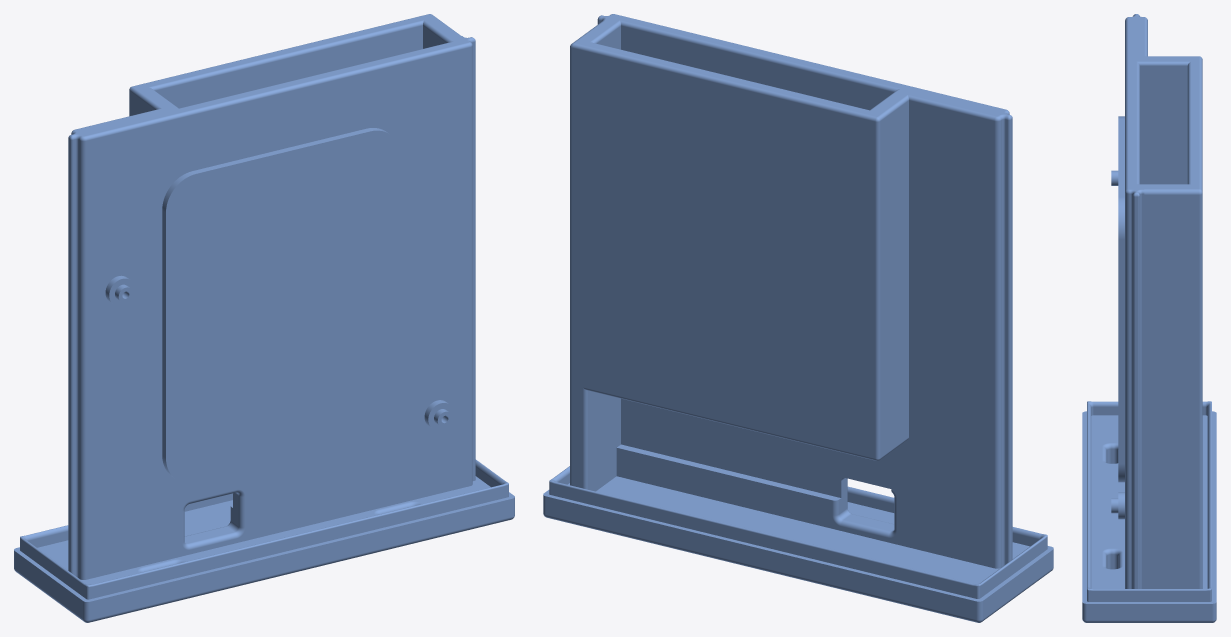
Rendered from Part1-bZxpVqSY.gltf.
3 views of the same model, side by side, from view 1: azimuth 30°, elevation 25°; view 2: azimuth 150°, elevation 25°; view 3: azimuth 270°, elevation 25° (orthographic). The views are drawn at different scales.
Visible parts, largest first — view 1: Part 1; view 2: Part 1; view 3: Part 1.
Part boxes in pixels (<box>): Part 1: <box>14,14,514,622</box>; Part 1: <box>543,14,1053,622</box>; Part 1: <box>1082,14,1216,622</box>.
Bounding box in the file's own units: 0.1 × 0.103 × 0.0295.
